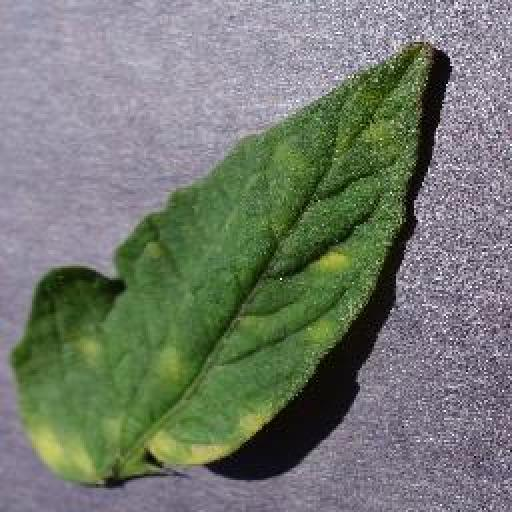disease_tomato: (11, 40, 432, 488)
